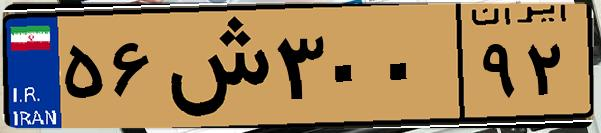0: (385, 28, 445, 110), (330, 28, 385, 110)
2: (525, 38, 570, 115)
3: (270, 28, 330, 110)
5: (57, 26, 110, 100)
6: (110, 28, 158, 98)
9: (475, 38, 525, 113)
ش: (158, 12, 270, 120)
